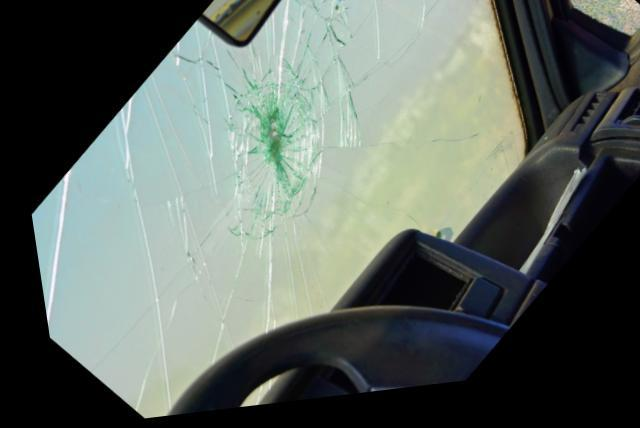glass shatter: (25, 0, 521, 420), (565, 0, 640, 51)
